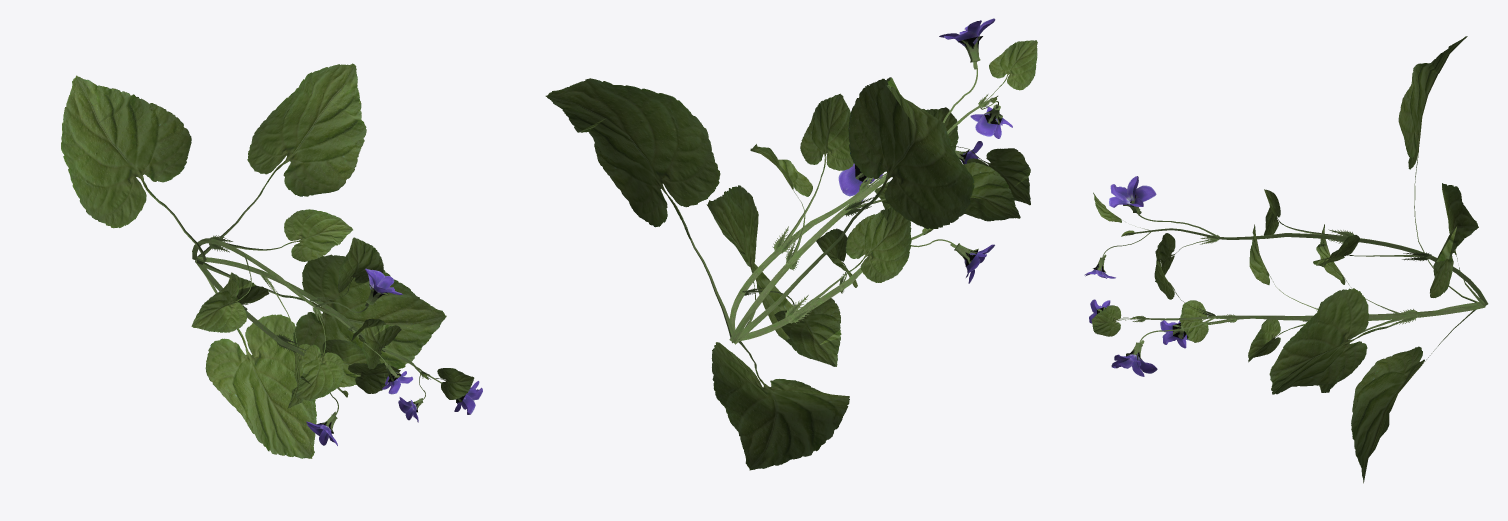
3 views of the same model, side by side, from view 1: azimuth 30°, elevation 25°; view 2: azimuth 150°, elevation 25°; view 3: azimuth 270°, elevation 25° (orthographic). The views are drawn at different scales.
Visible parts, largest first — view 1: GC20_2; view 2: GC20_2; view 3: GC20_2.
Part boxes in pixels (x1,y1,x2,y2): GC20_2: (61, 63, 482, 458); GC20_2: (545, 18, 1037, 470); GC20_2: (1084, 36, 1488, 483).
Size of the model in its own units: 1.07 by 1.18 by 1.05.
Materials: 5 (5 with a texture image).
